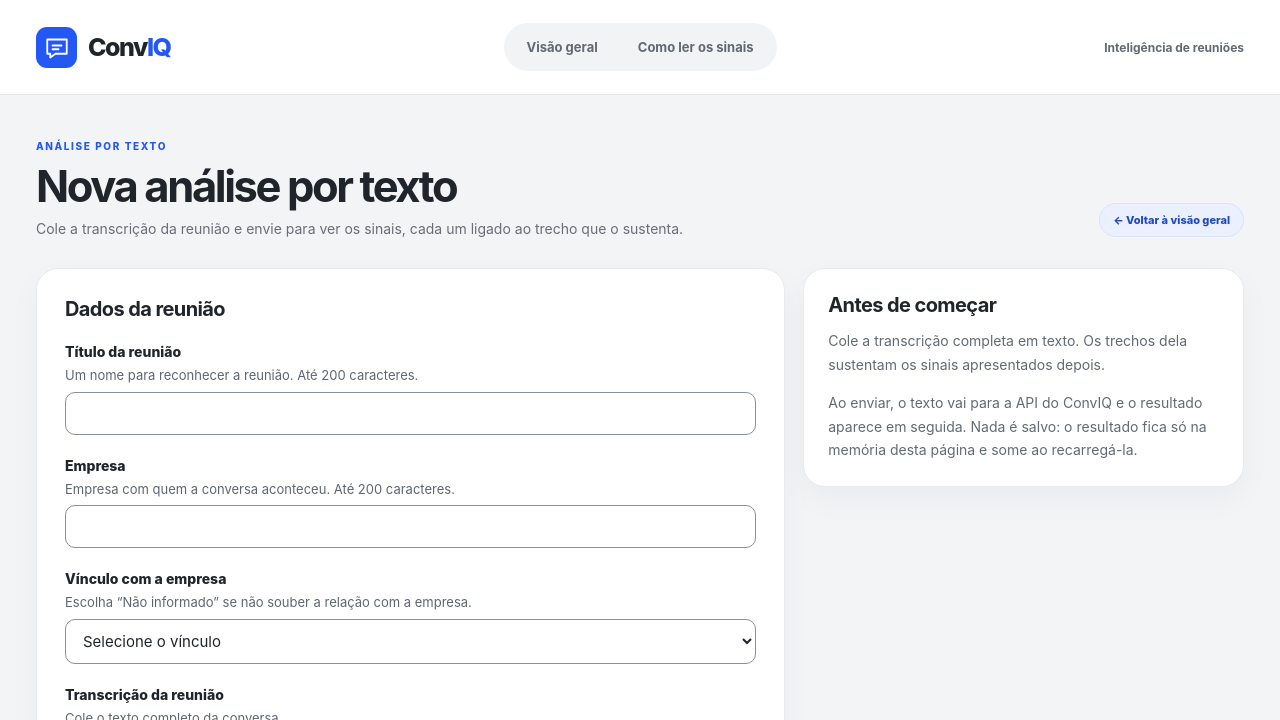
it: falhas e nova tentativa › validação 422: mostra a mensagem do cliente, preserva os campos e libera nova tentativa
Step 1. Type "  Renovação Acme  " into the field labelled "Título da reunião" → (411, 413), box 65,392 -> 756,435
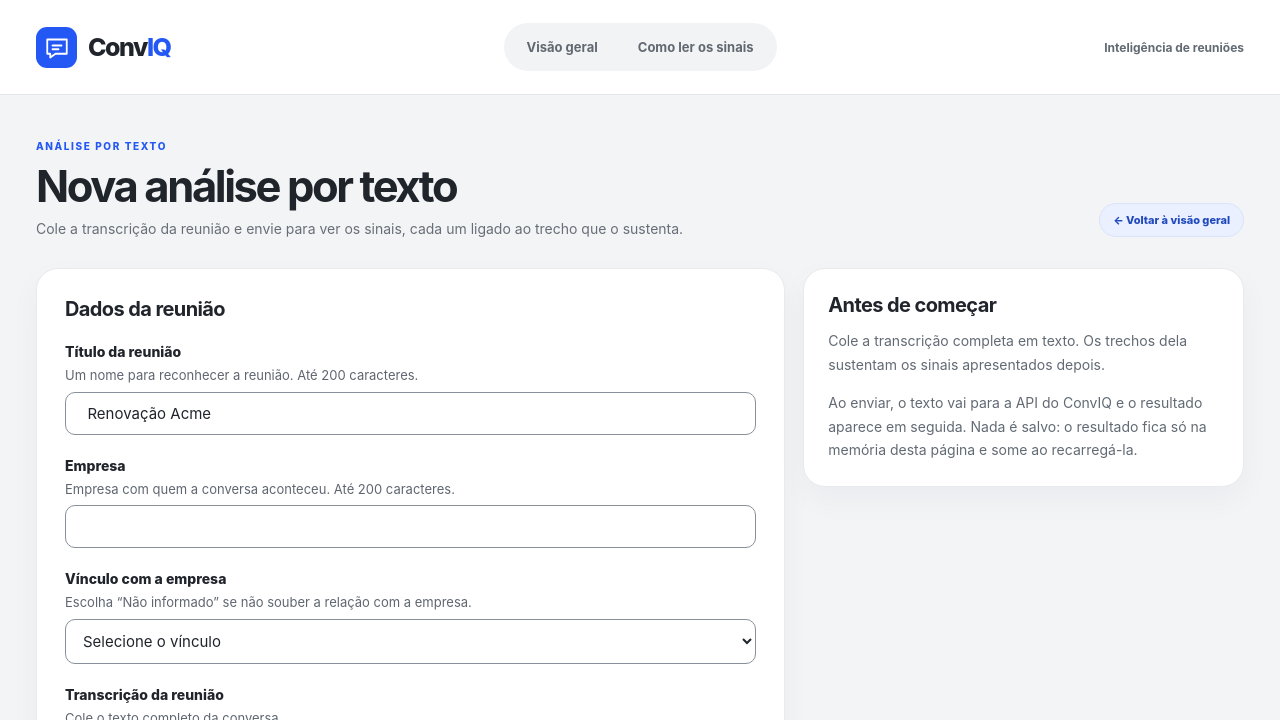
Step 2. Type "Acme" into the field labelled "Empresa" → (411, 527), box 65,505 -> 756,548
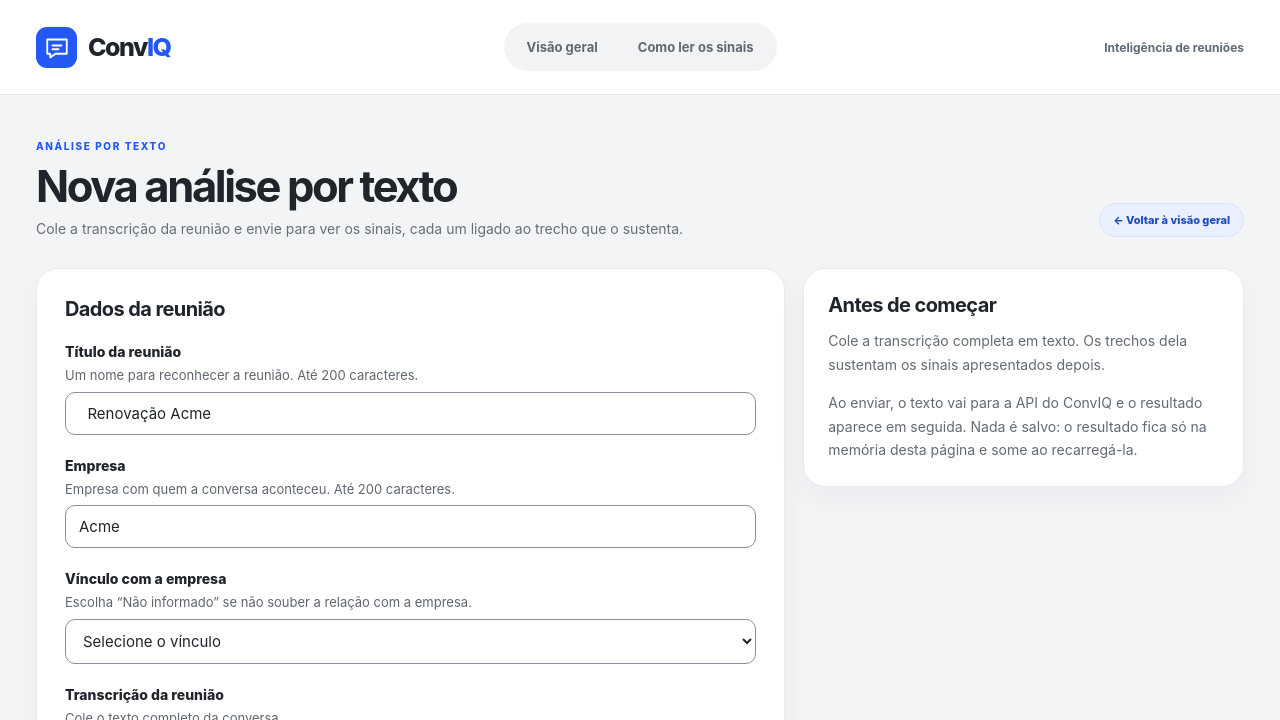
Step 3. Select "Cliente" in the dropdown labelled "Vínculo com a empresa" → (411, 641), box 65,619 -> 756,664
(page scrolled)
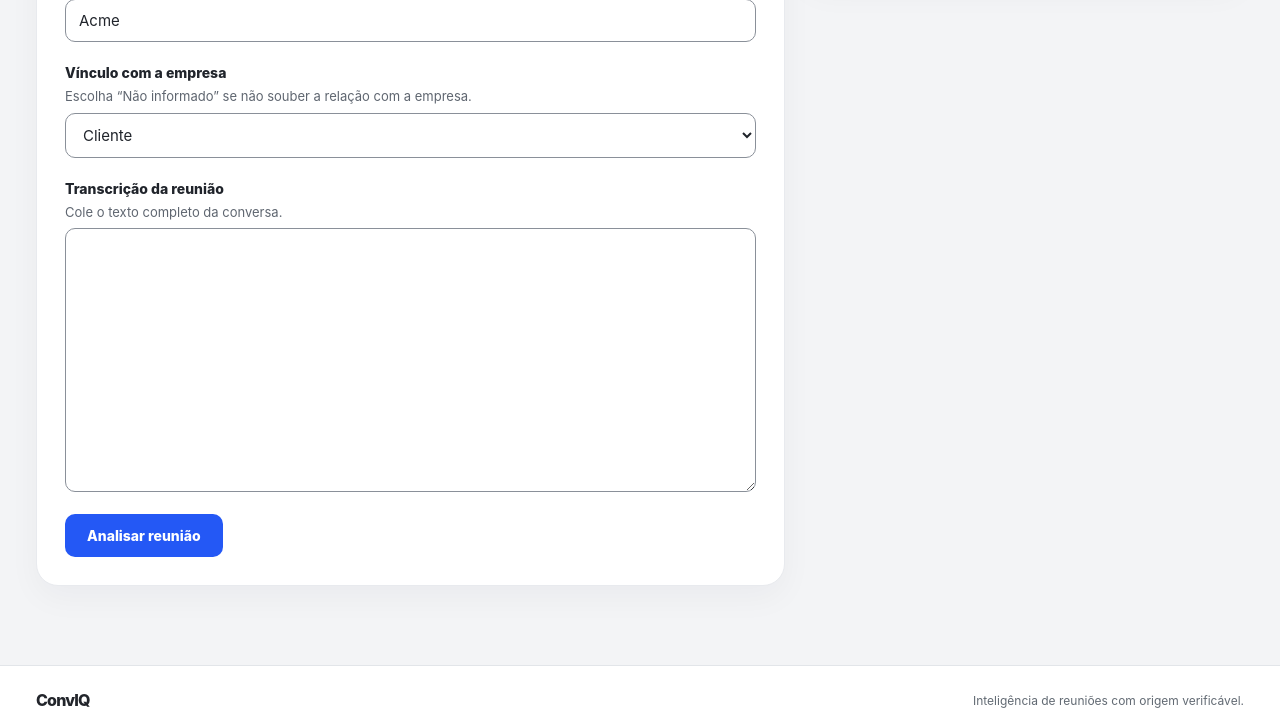
Step 4. Type " Estamos insatisfeitos com o suporte. " into the text box labelled "Transcrição da reunião" → (411, 360), box 65,228 -> 756,492
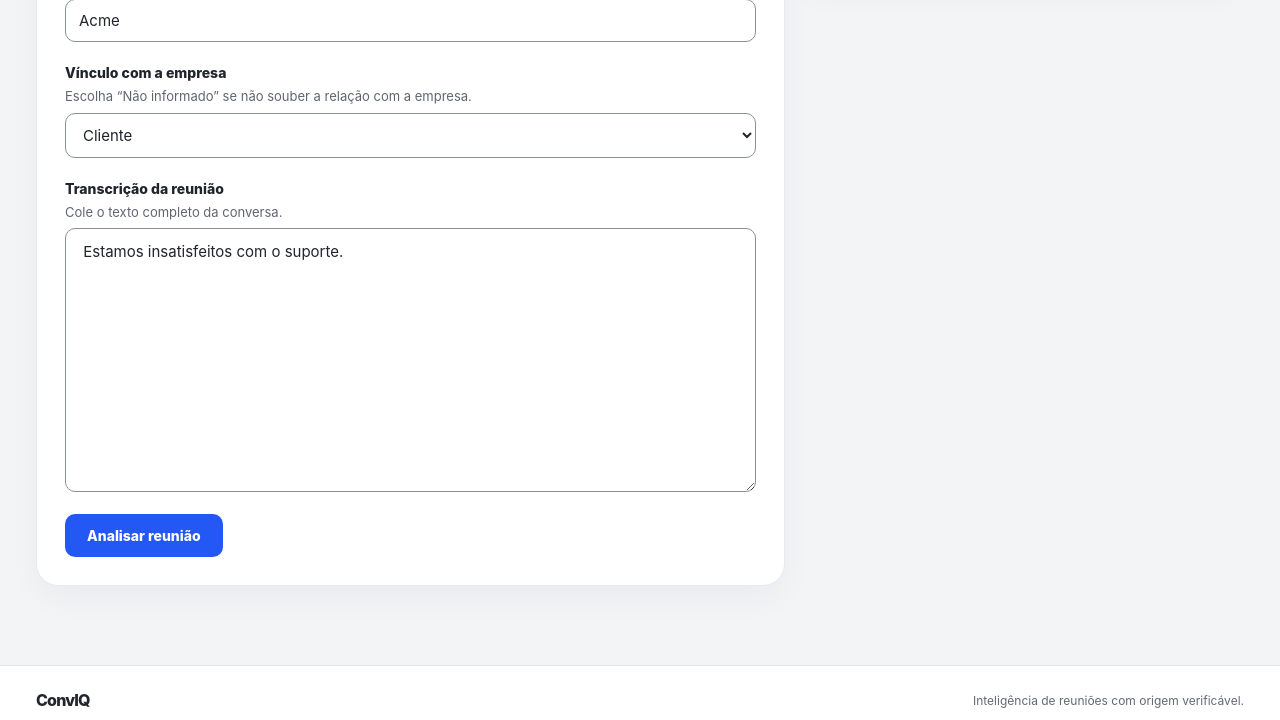
Step 5. Click the button "Analisar reunião" → click(144, 536), box 65,514 -> 223,557
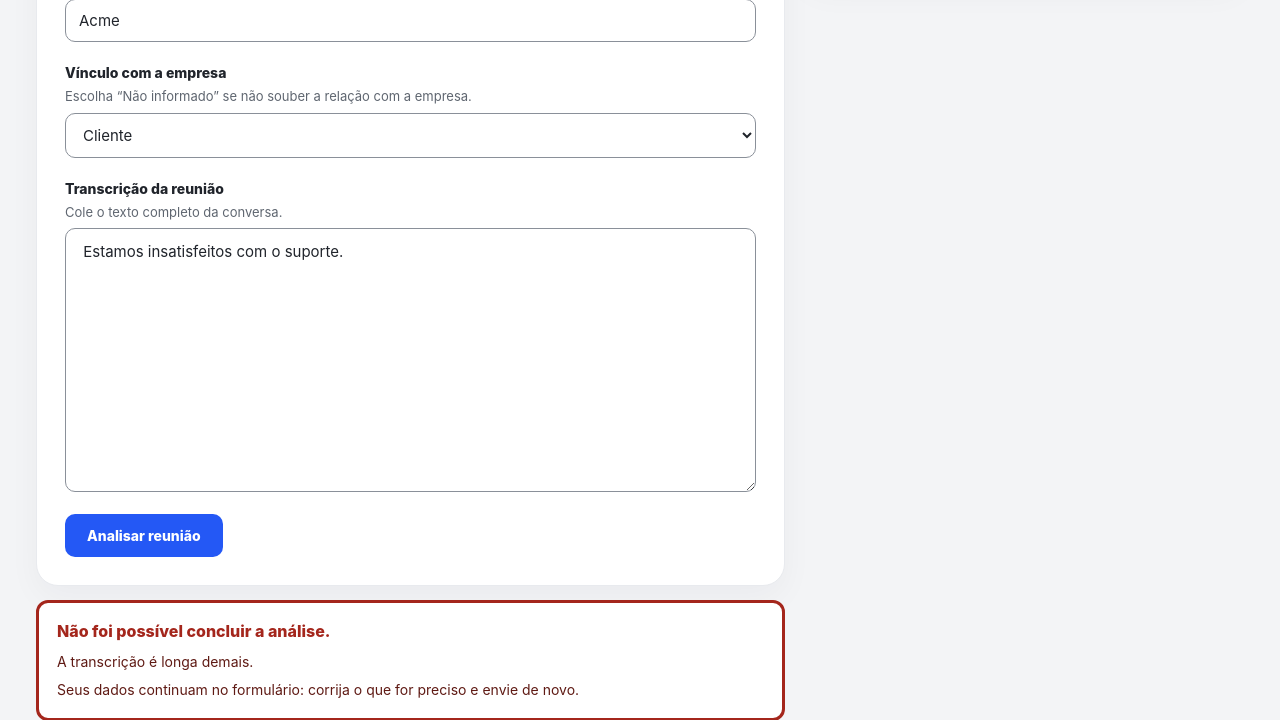
Check: the message shows "A transcrição é longa demais.", box 57,653 -> 253,670
Check: the message shows "Seus dados continuam no formulário", box 57,681 -> 579,698
Check: the number of messages is 1, box 36,600 -> 785,719
